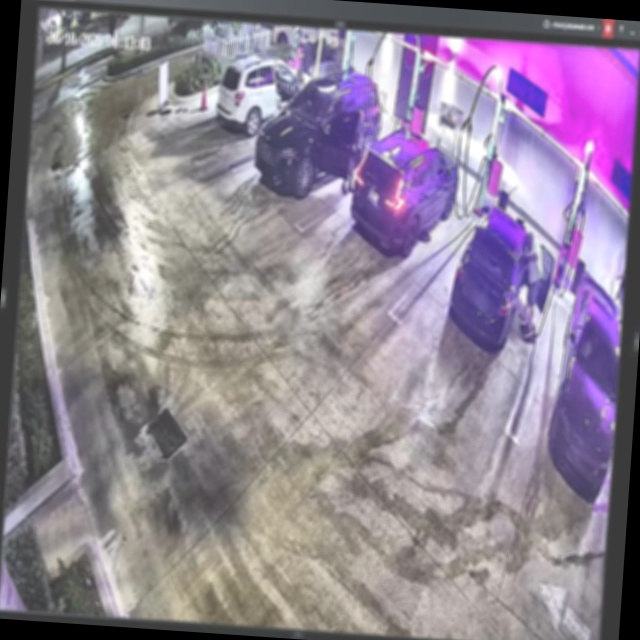Car: (447, 199, 557, 359), (257, 67, 385, 198), (348, 123, 463, 258)
